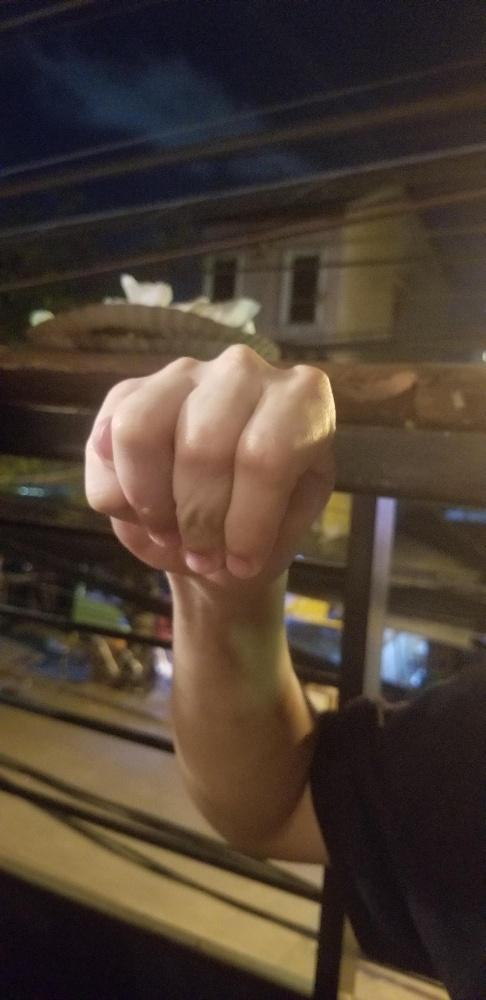m: (79, 337, 341, 595)
